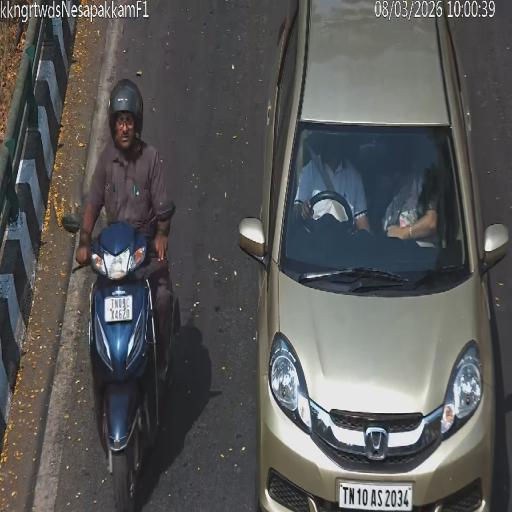person_with_seatbelt: (307, 140, 350, 222)
person_without_seatbelt: (384, 153, 437, 242)
